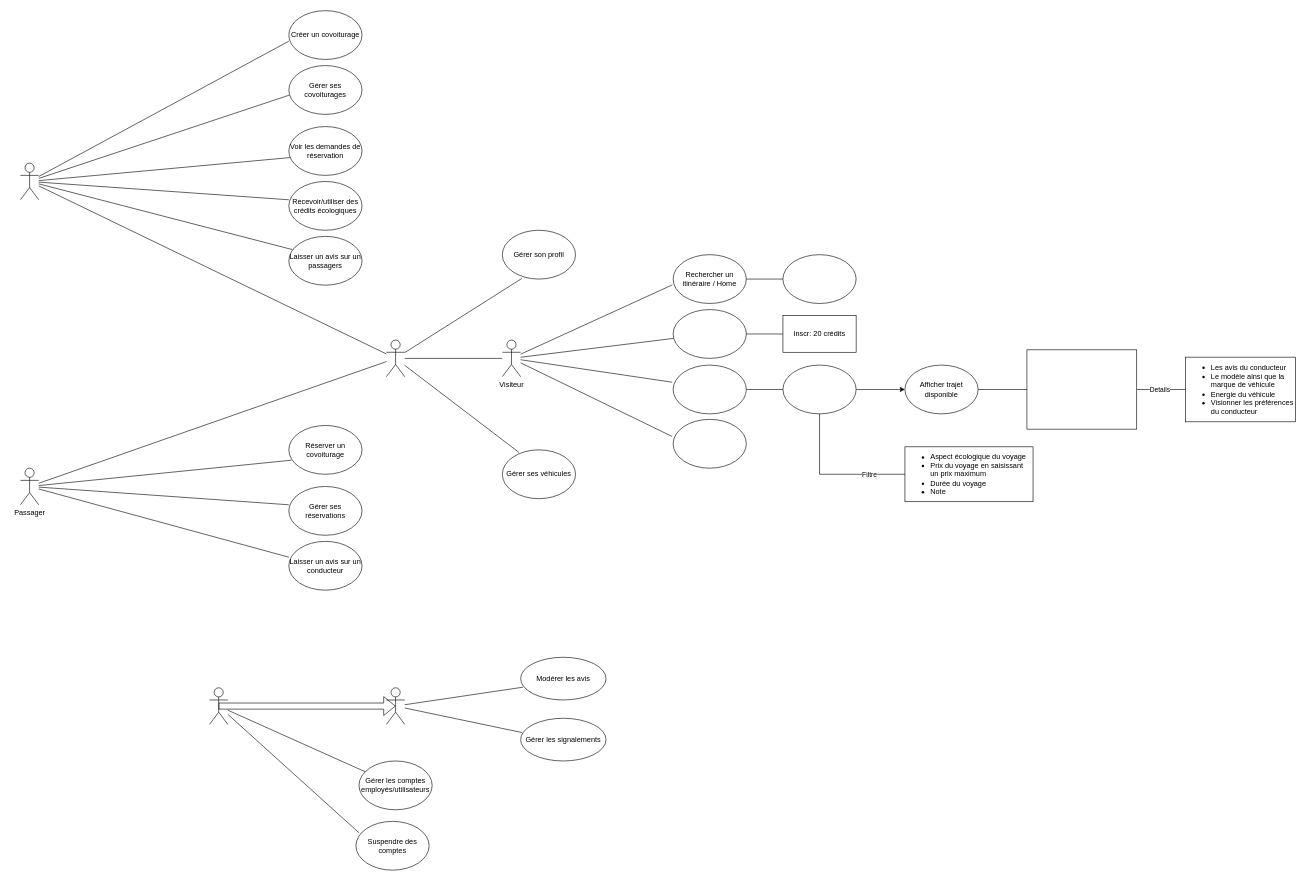
The diagram is 1306 pixels wide and 881 high, and some of its shapes have lost their labels. The centre of each missing label's shape, as x and y in pixels:
"Accès aux covoiturages" goes at (x=709, y=389).
"Admin" goes at (x=218, y=705).
"Conducteur" goes at (x=29, y=181).
"Consulter les détails d'un covoiturage" goes at (x=819, y=278).
"Contacter l'entreprise" goes at (x=709, y=443).
"Employé" goes at (x=395, y=705).
"Enregistré" goes at (x=395, y=358).
"Inscription / Connexion / Déconnexion" goes at (x=709, y=333).
"Photo Pseudo Place restante Prix Dates Voyage éco? Bouton details" goes at (x=1081, y=389).
"Rechercher un itinéraire" goes at (x=819, y=389).
